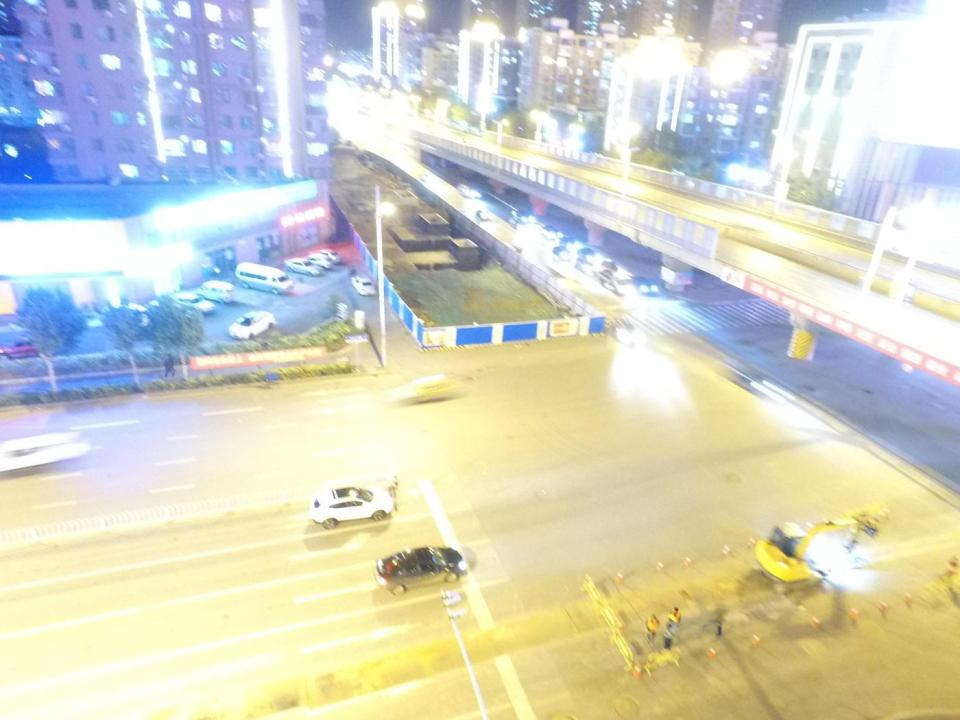car: (374, 548, 467, 595), (0, 432, 88, 475), (311, 485, 392, 528), (228, 309, 275, 340), (1, 337, 53, 361), (407, 376, 456, 401), (169, 292, 214, 315), (610, 318, 641, 347), (284, 256, 324, 277), (351, 276, 377, 296), (633, 276, 659, 296), (303, 254, 335, 269), (457, 182, 481, 200), (317, 248, 342, 264), (513, 210, 535, 225), (576, 257, 595, 274), (578, 245, 596, 262), (552, 245, 571, 260), (477, 209, 491, 221)
truck: (598, 268, 631, 294)
van: (235, 262, 295, 294), (198, 278, 237, 304)
